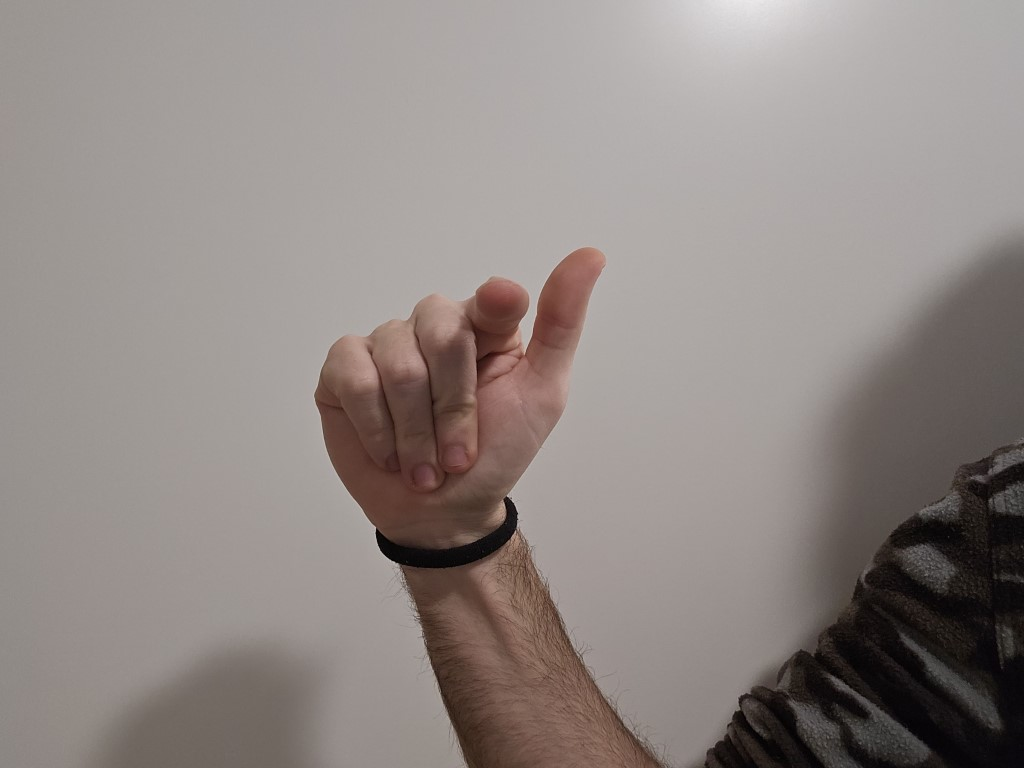t: (262, 219, 631, 550)
